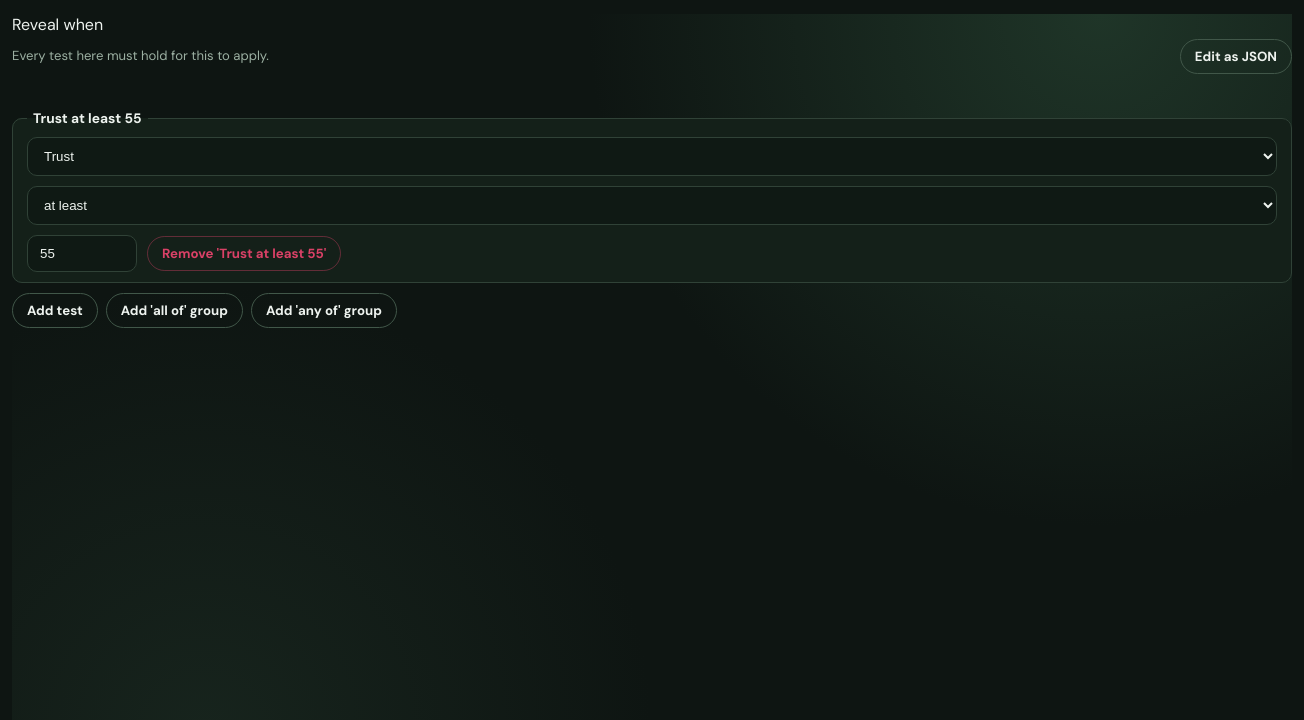
ConditionField adding, removing and drafts › moves focus to the Add button when the removed row was the last
Click the button "Remove 'Trust at least 55'": (244, 254) [147,236,341,271]
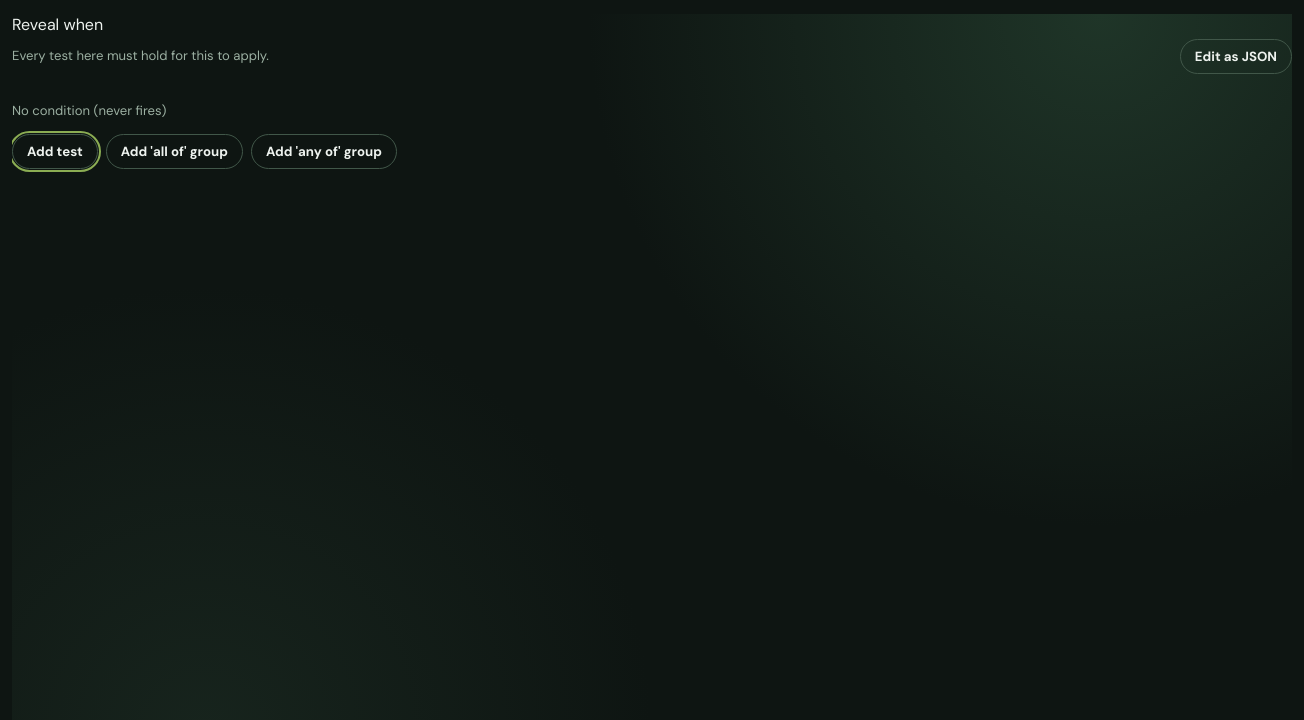
Check: the text "No condition (never fires)" is shown, box [12,102,166,119]
